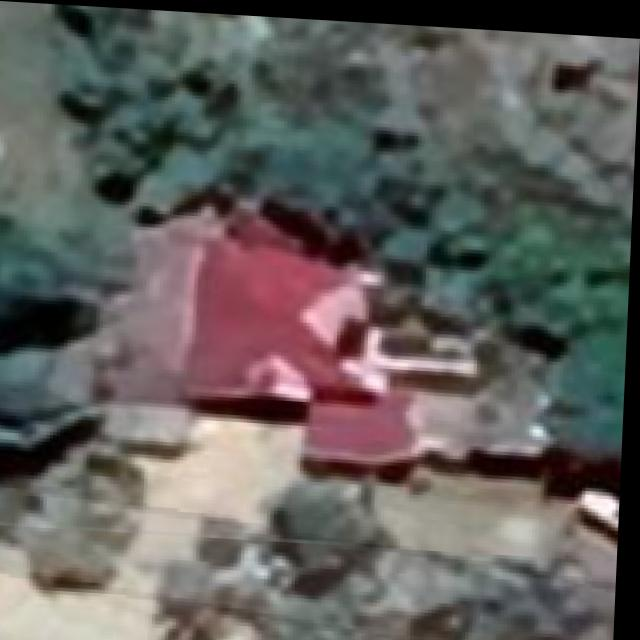Batiment: (138, 209, 482, 458)
